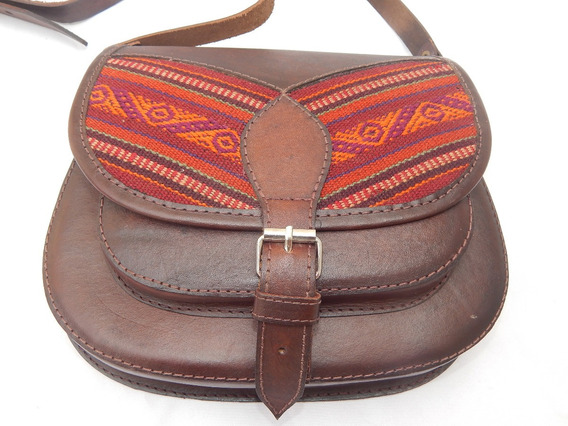cartera: (40, 39, 510, 419)
